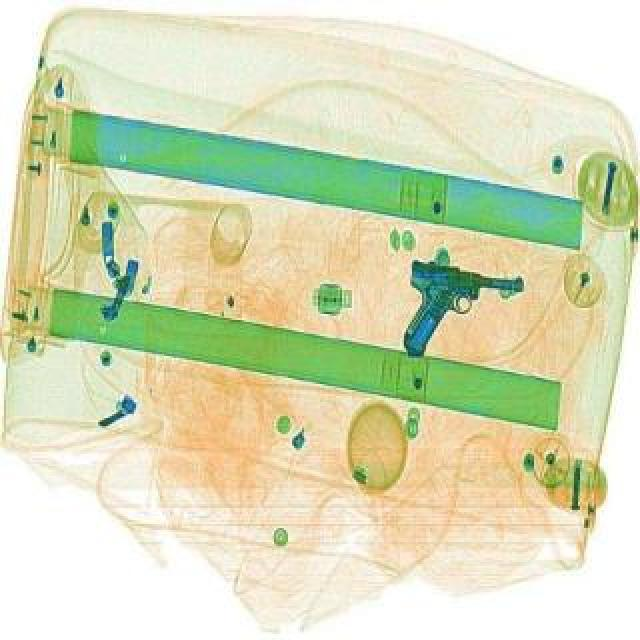gun: (380, 236, 538, 356)
